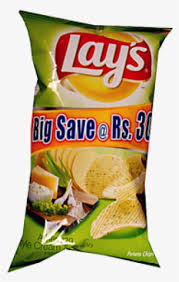lays-large: (15, 8, 159, 270)
